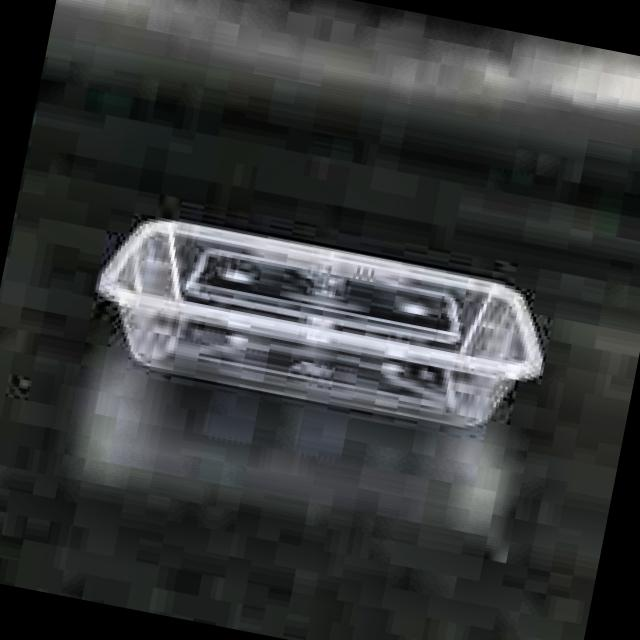plastic container: (97, 219, 543, 427)
